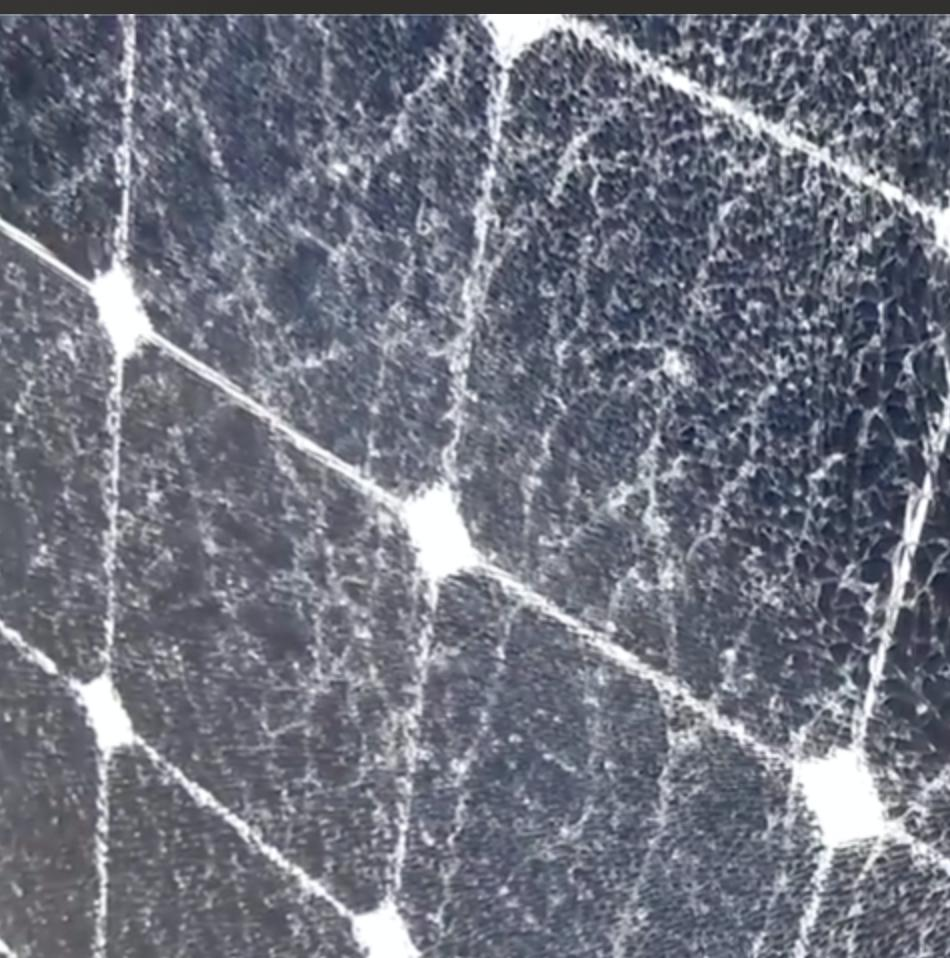Crack: (4, 28, 949, 923)
